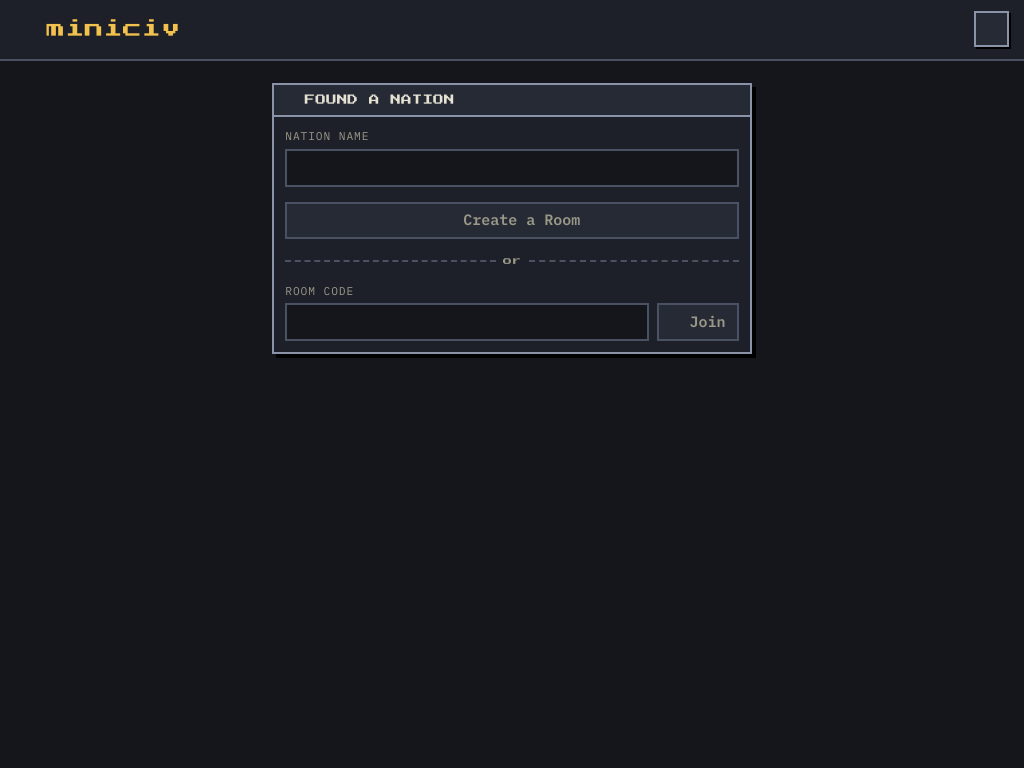
Settings pop-up › closes on Escape and on a click outside it
Click the button named "Settings" at (991, 29), box [974, 11, 1009, 47]
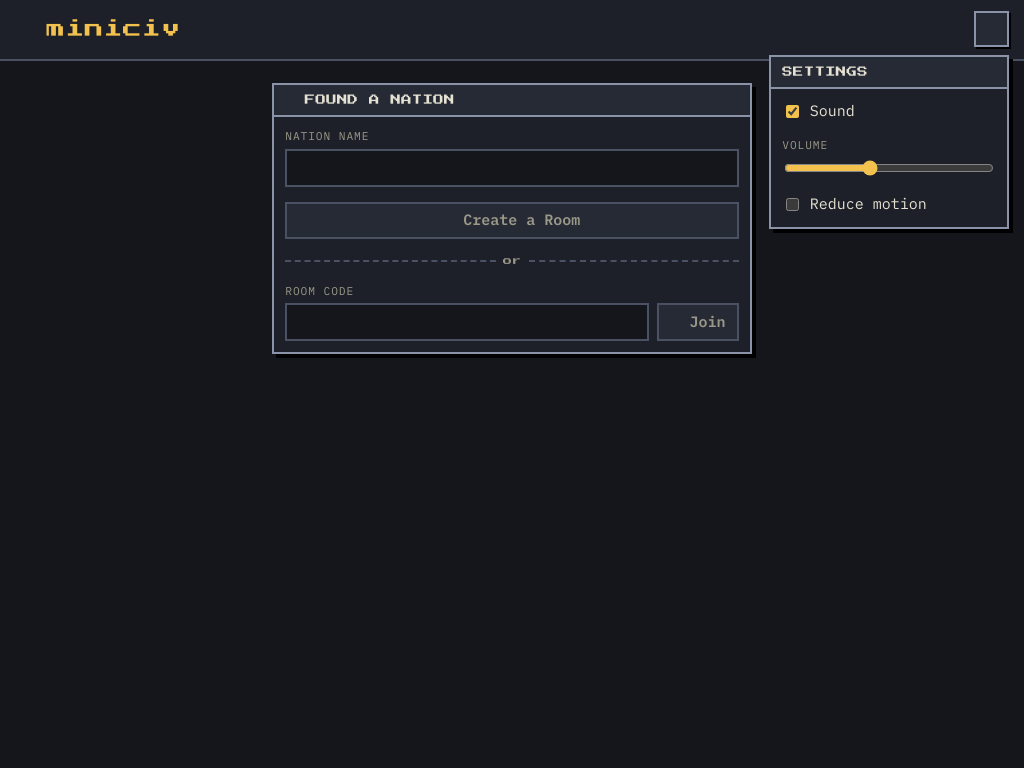
Press Escape
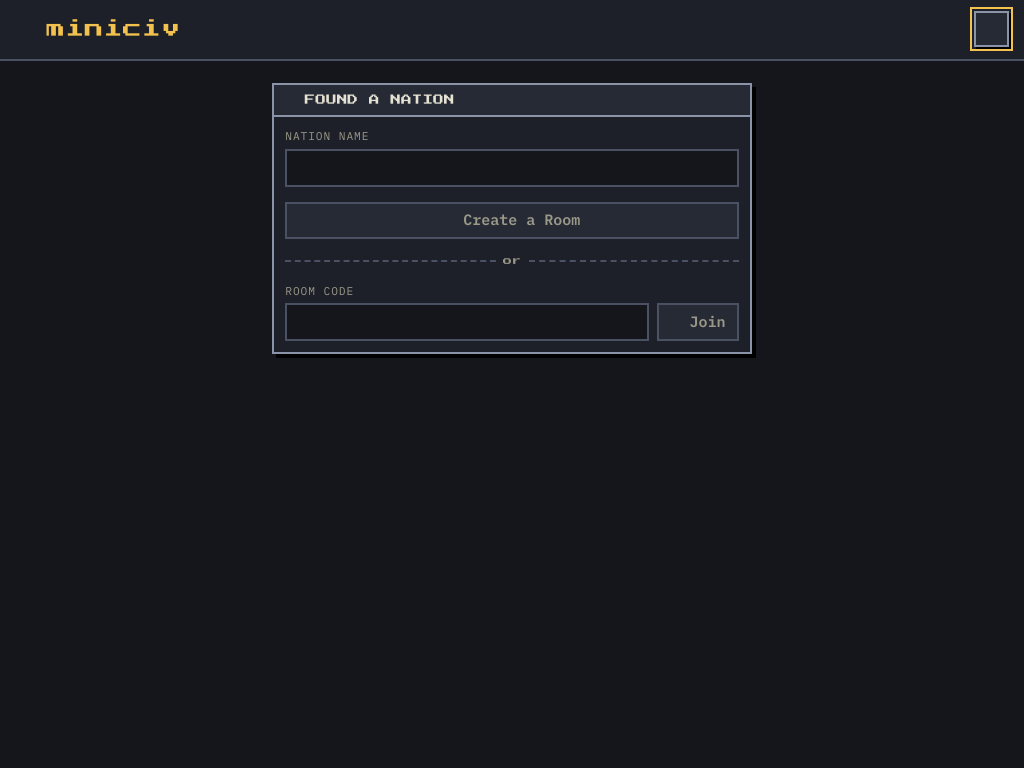
Result: the heading "Settings" is gone
Click the button named "Settings" at (991, 29), box [974, 11, 1009, 47]
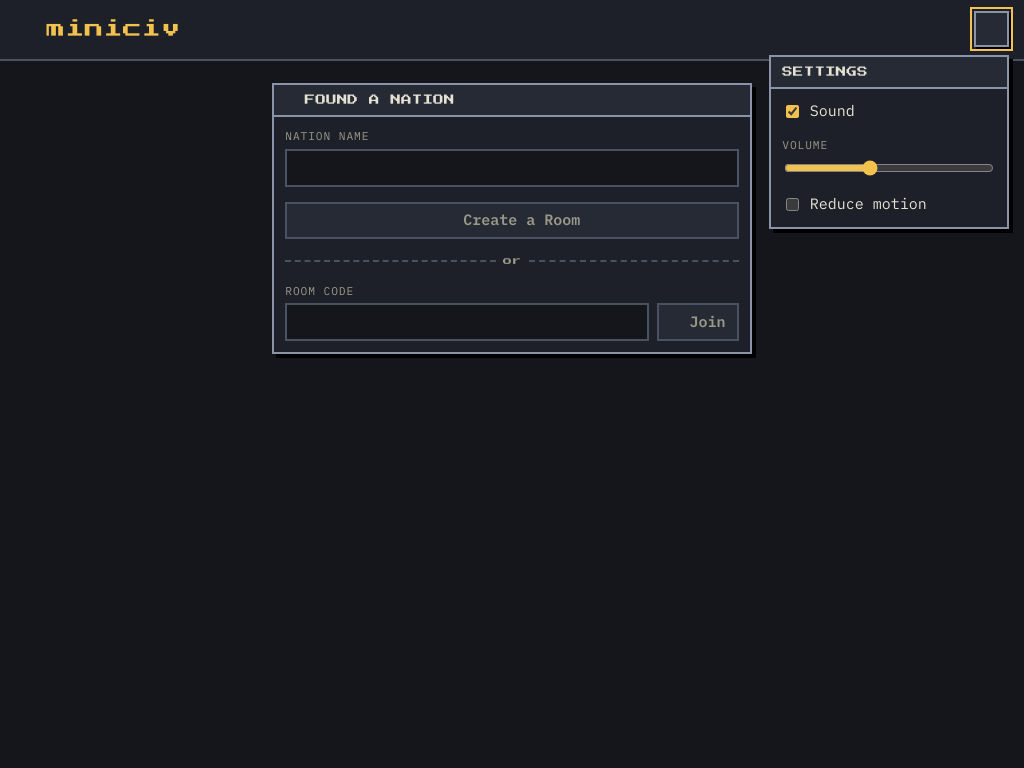
Press the mouse on the dialog "Settings" at (889, 142), box [769, 55, 1009, 229]
Result: the dialog "Settings" is shown at [769, 55, 1009, 229]
Press the mouse on the element that starts with "miniciv" at (512, 384), box [0, 0, 1023, 767]
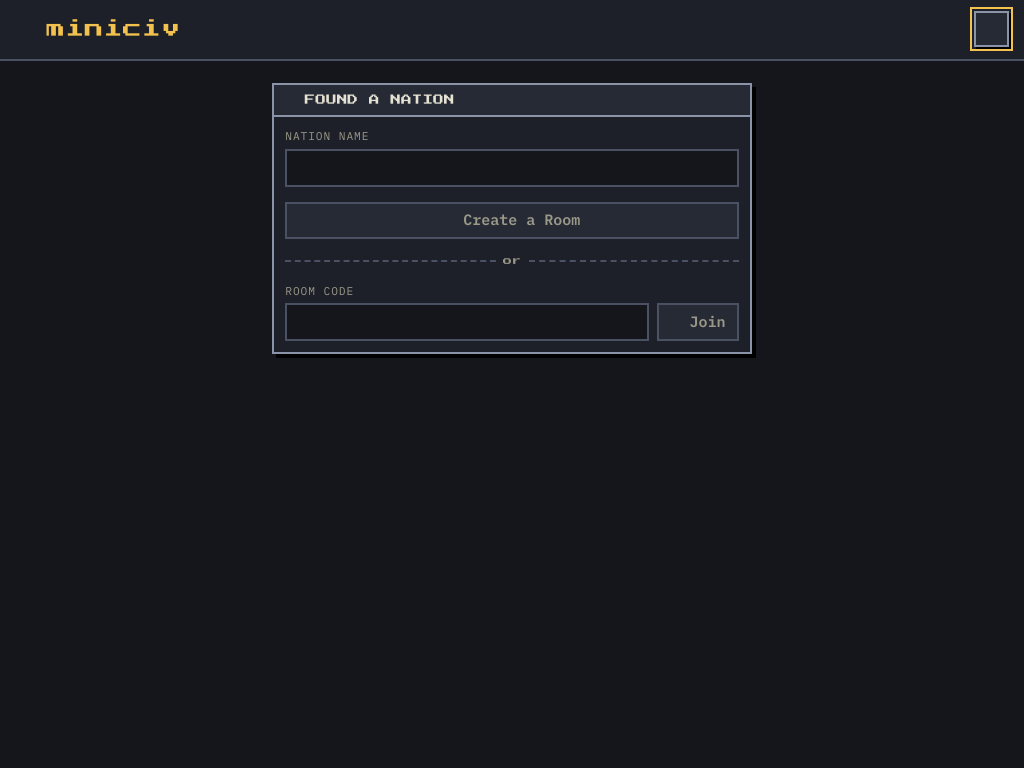
Result: the heading "Settings" is gone
